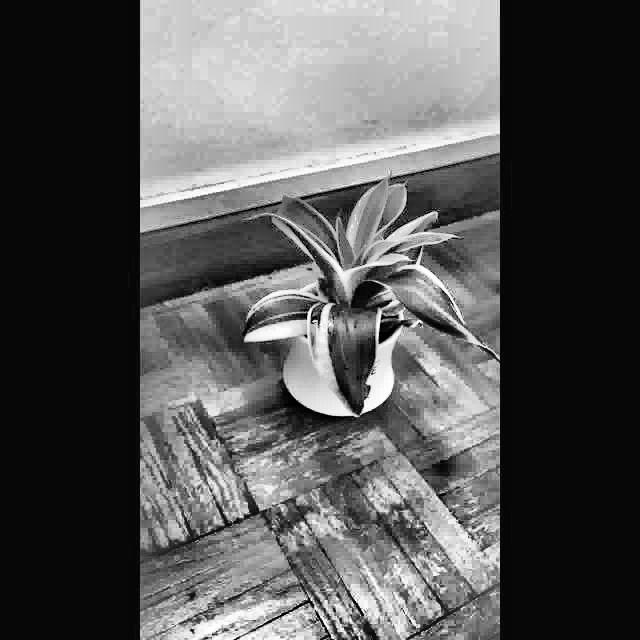plants: (236, 159, 500, 428)
